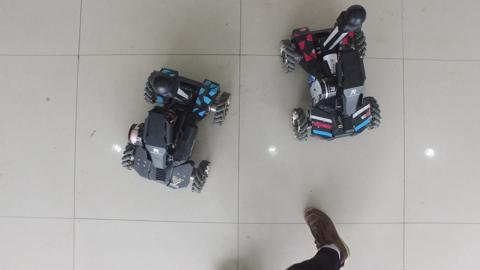chariot: (273, 4, 390, 149), (114, 63, 239, 197)
